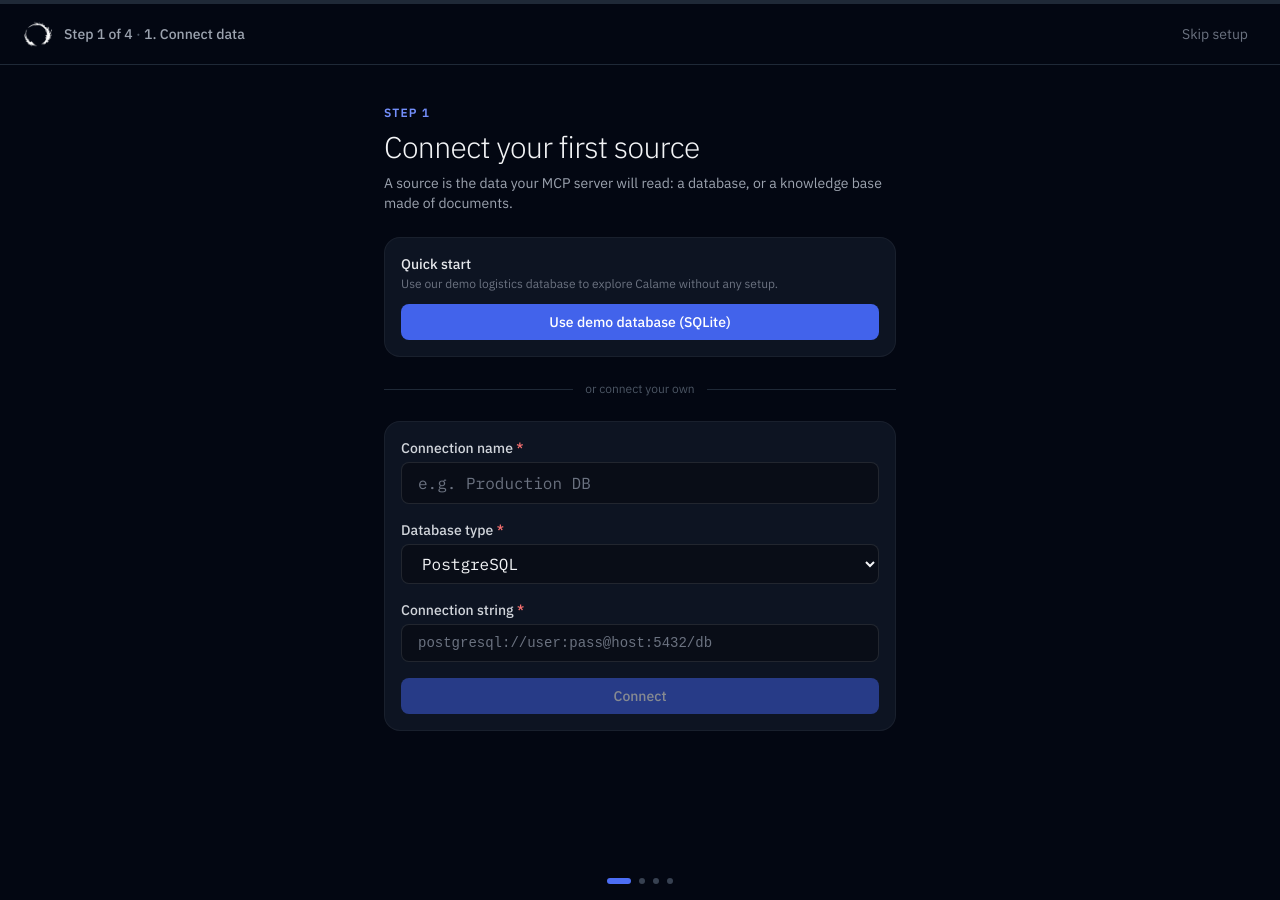
OnboardingWizard › POSTs /api/configurations before /api/profiles/save and lands on step 4
Click the button "Use demo database (SQLite)" at (640, 322), box [401,304,879,340]
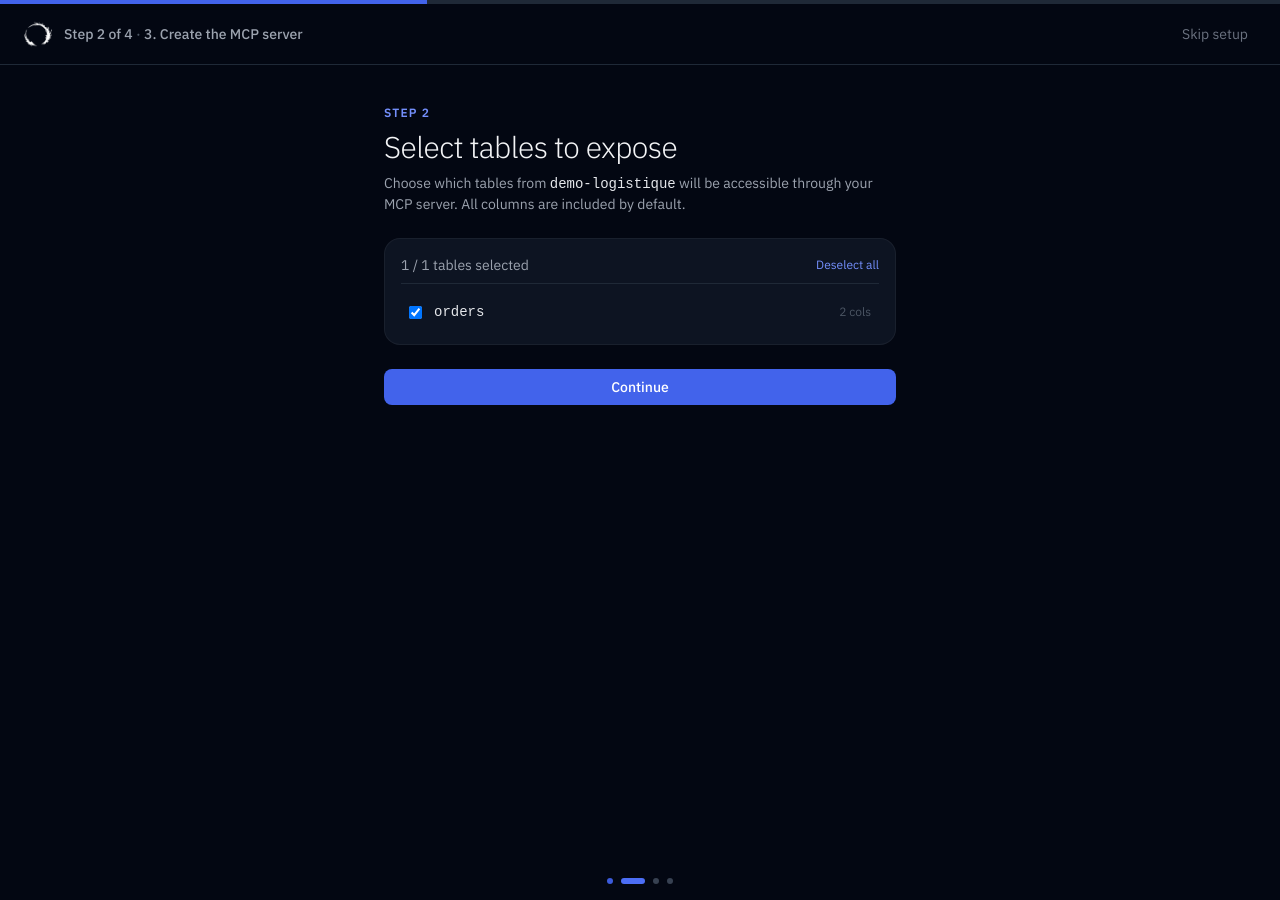
Now the text "1 / 1 tables selected" is shown, box [401,255,529,275]
Click the button "Continue" at (640, 387), box [384,369,896,405]
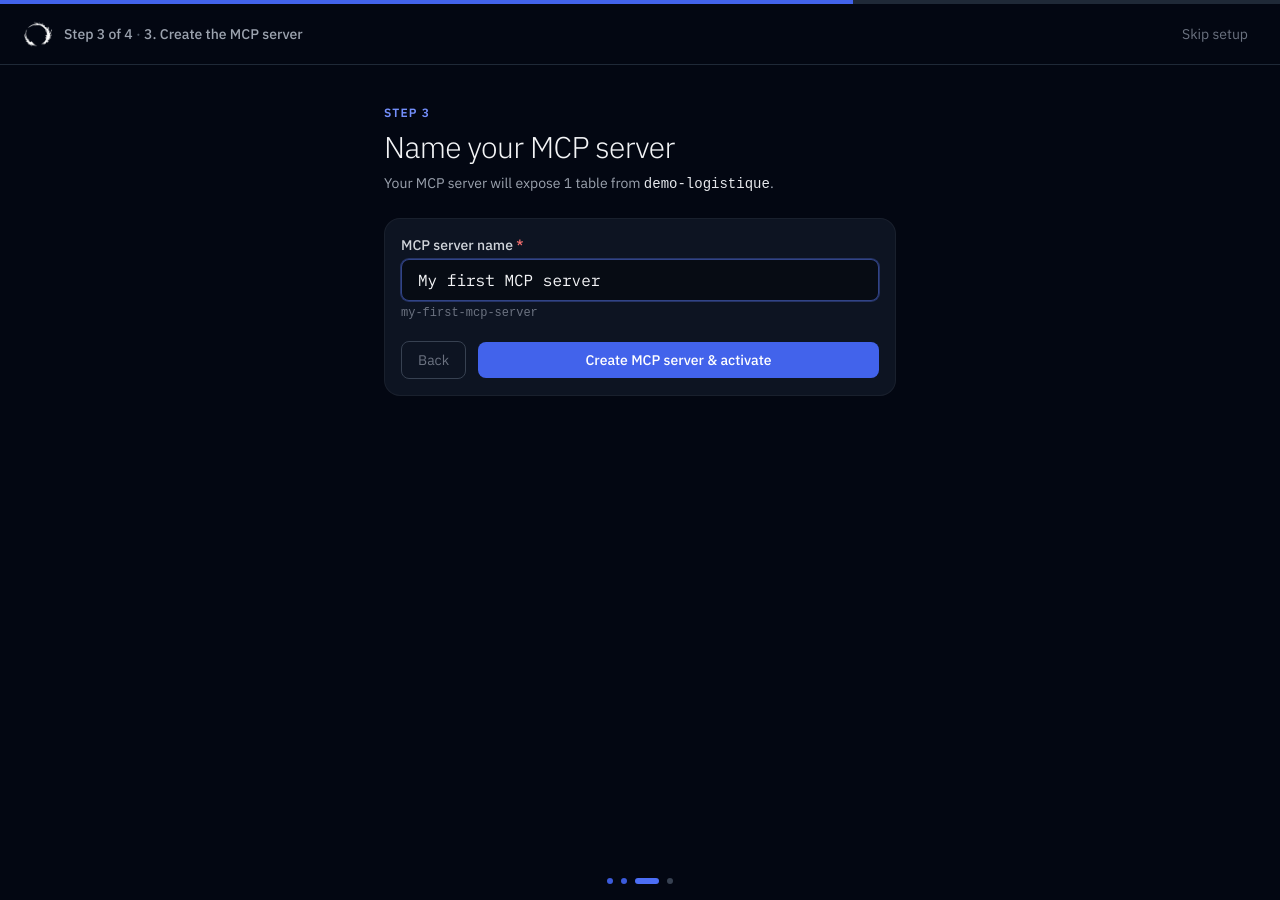
Click the button "Create MCP server & activate" at (678, 360), box [478,342,879,378]
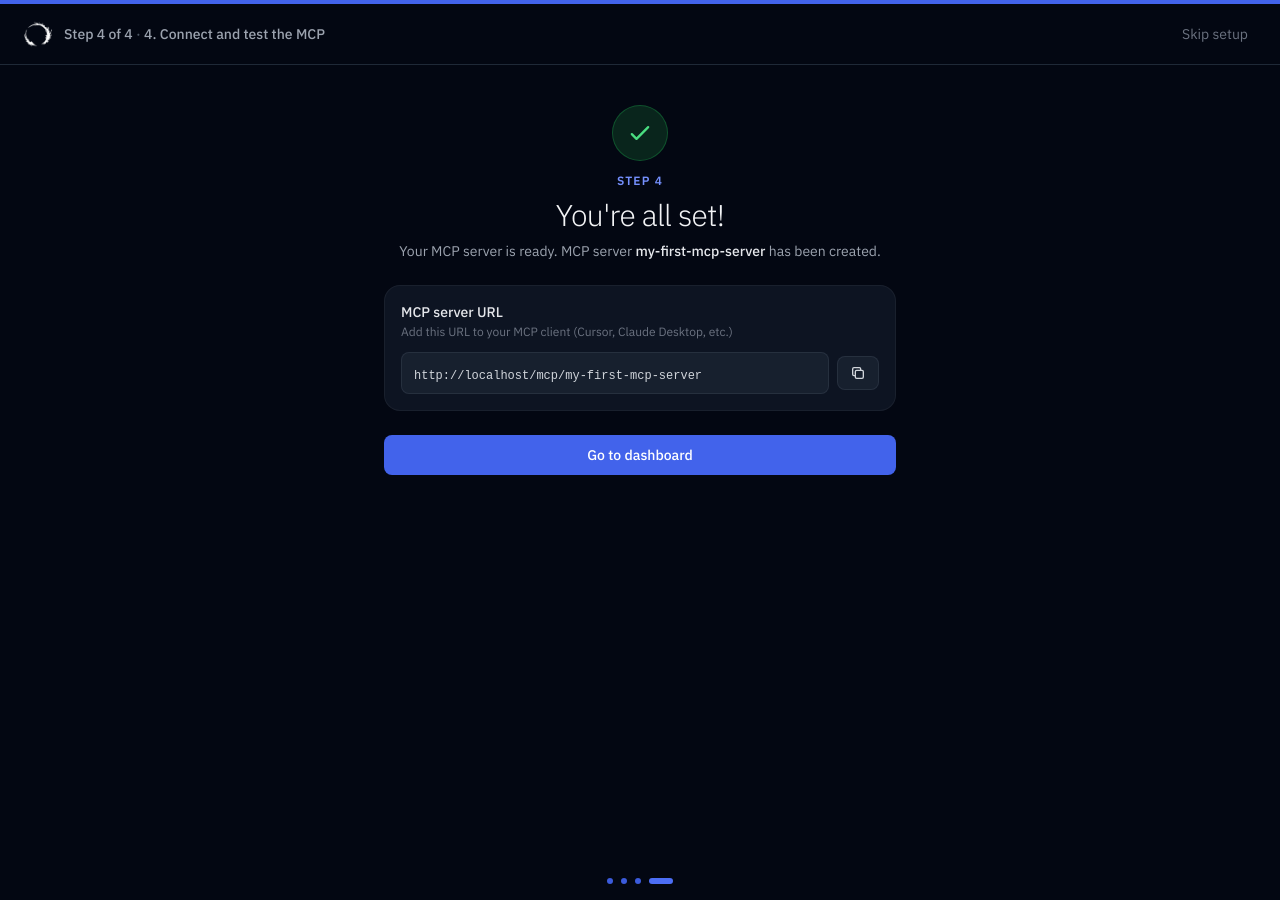
Now the heading "You're all set!" is shown, box [556,195,724,234]
